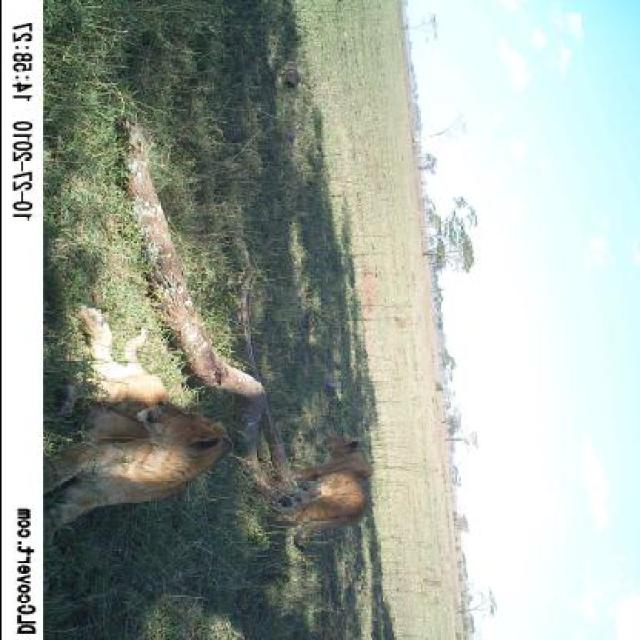Lion: (54, 296, 234, 538), (268, 426, 390, 562)
